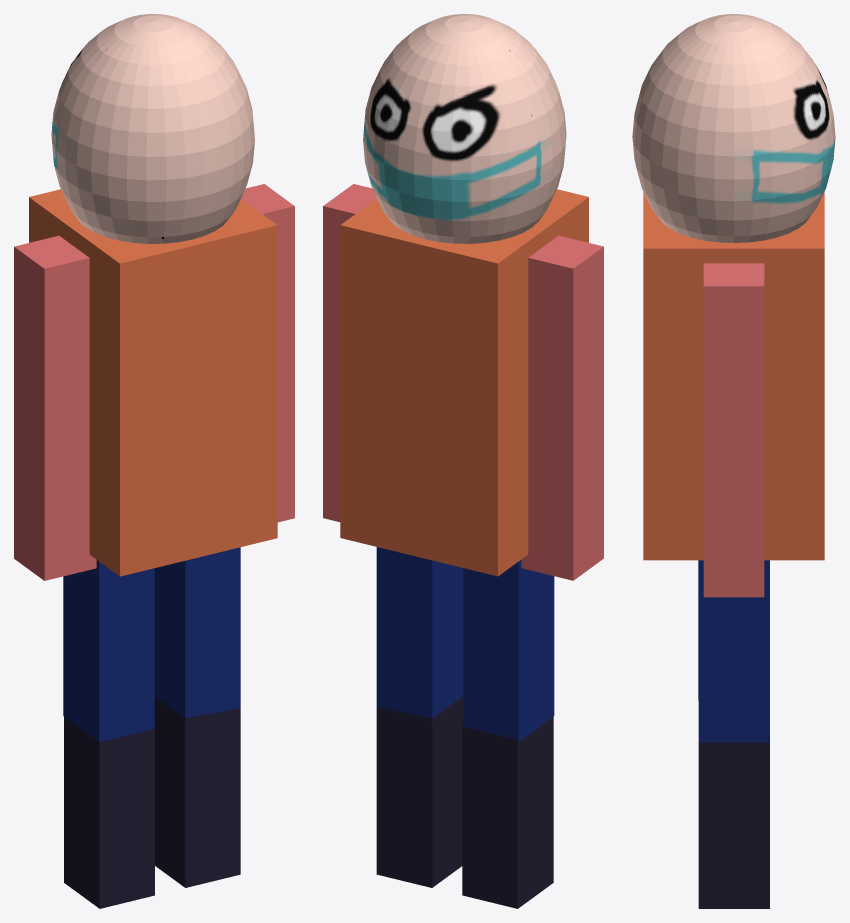
File: Player2.glb
3 renders of one model, left to right at view 1: azimuth 30°, elevation 25°; view 2: azimuth 150°, elevation 25°; view 3: azimuth 270°, elevation 25°, orthographic.
Parts seen in each view (by area): view 1: Body, Head, Arm1, Leg1b, Leg1, Leg2b, Leg2, Arm2; view 2: Body, Head, Arm1, Leg1b, Leg2b, Leg1, Leg2, Arm2; view 3: Body, Head, Arm2, Leg2b, Leg2.
Part boxes in pixels (bbox=[...]): Body: bbox=[29, 189, 277, 576]; Head: bbox=[51, 14, 254, 243]; Arm1: bbox=[14, 235, 96, 580]; Leg1b: bbox=[64, 717, 154, 908]; Leg1: bbox=[63, 560, 154, 742]; Leg2b: bbox=[154, 696, 240, 887]; Leg2: bbox=[154, 547, 240, 718]; Arm2: bbox=[241, 184, 294, 522]; Body: bbox=[340, 189, 588, 576]; Head: bbox=[363, 14, 566, 243]; Arm1: bbox=[521, 235, 603, 580]; Leg1b: bbox=[462, 717, 553, 908]; Leg2b: bbox=[376, 696, 463, 887]; Leg1: bbox=[463, 560, 554, 741]; Leg2: bbox=[376, 547, 463, 720]; Arm2: bbox=[323, 184, 376, 521]; Body: bbox=[643, 192, 824, 560]; Head: bbox=[632, 14, 835, 242]; Arm2: bbox=[703, 263, 764, 597]; Leg2b: bbox=[698, 742, 769, 908]; Leg2: bbox=[698, 560, 769, 742].
Size of the model in its own units: 2.09 by 6.84 by 1.48.
Materials: 8 (3 with a texture image).
